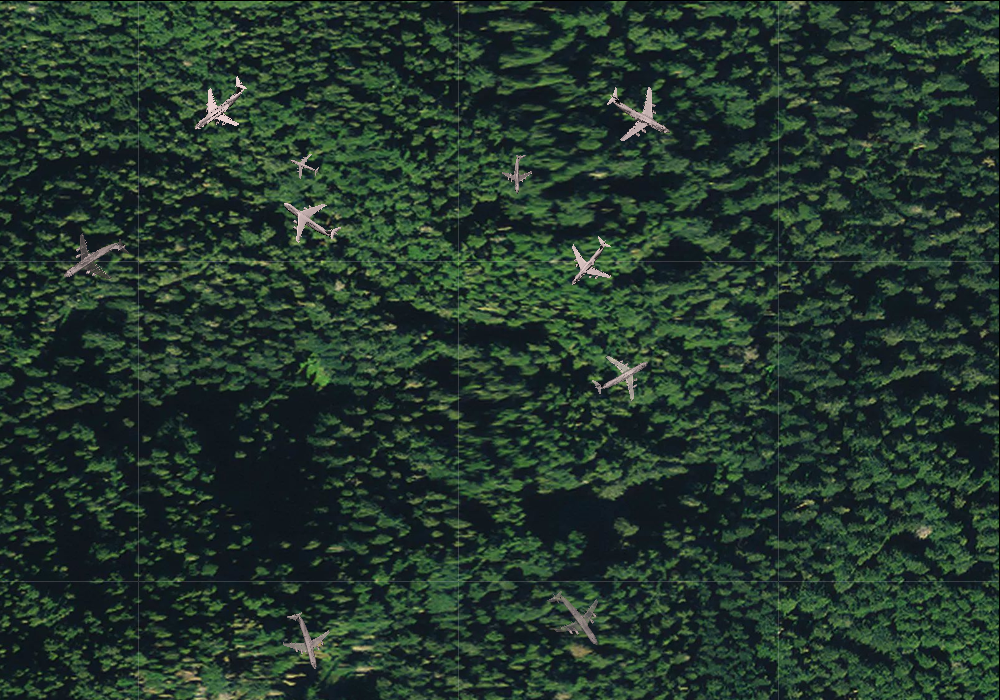plane: (592, 67, 686, 160), (47, 214, 140, 305), (531, 574, 620, 664), (174, 61, 263, 149), (268, 178, 351, 260), (581, 336, 661, 414), (550, 224, 627, 300), (269, 605, 339, 677), (500, 153, 537, 193), (284, 147, 323, 184)
